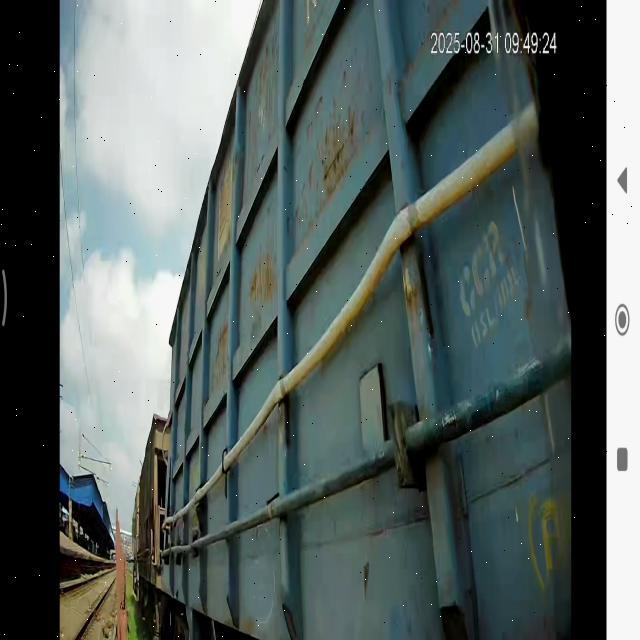coach: (163, 0, 566, 633)
